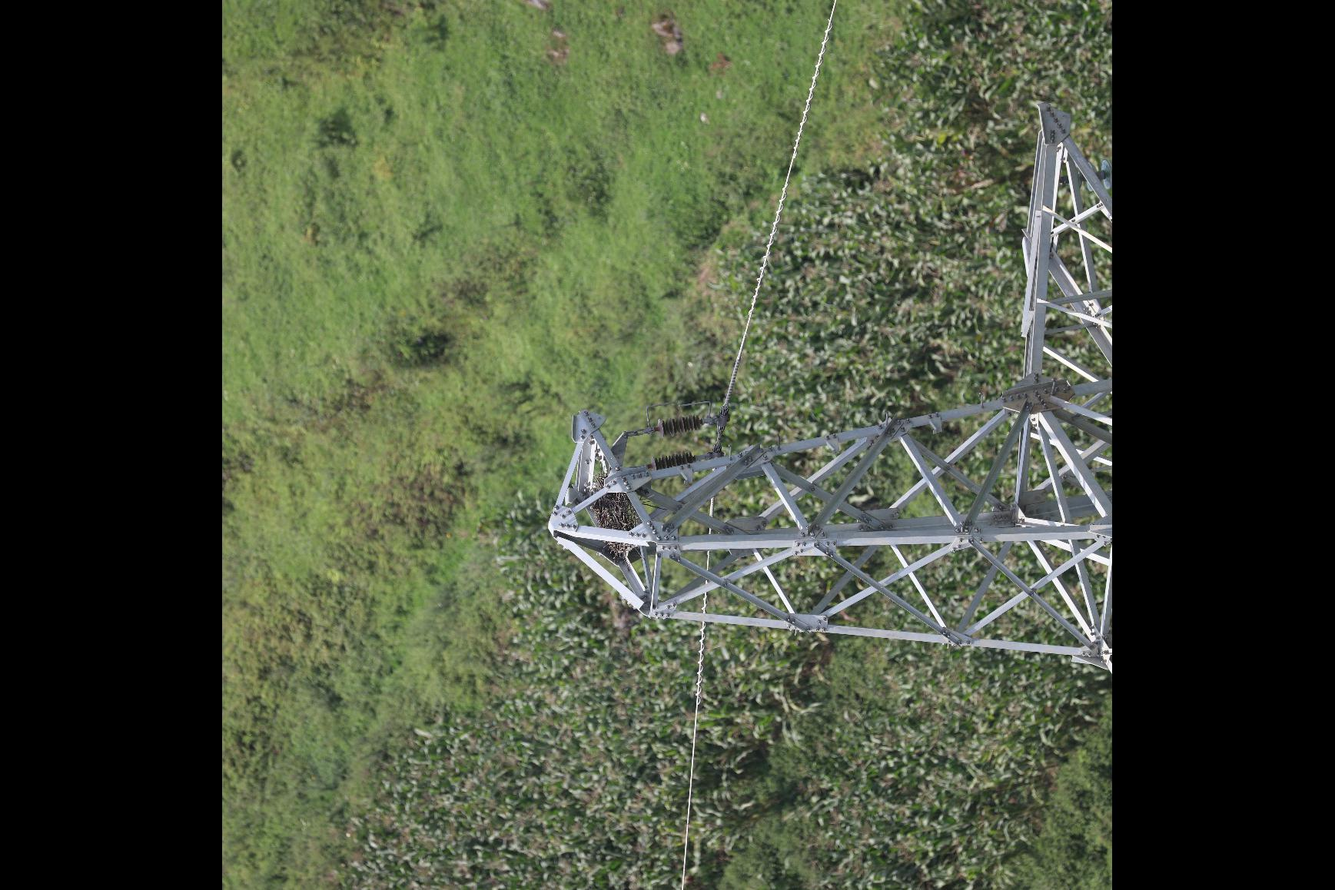nest: (589, 473, 636, 557)
